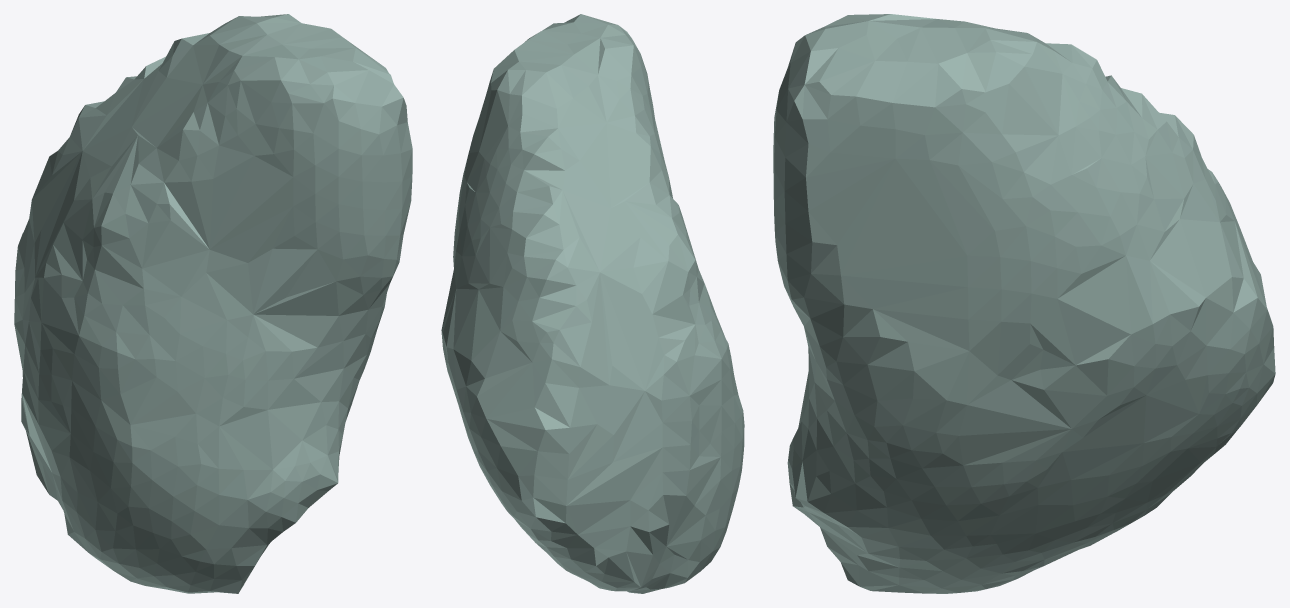
File: Model_224_RH__Substantia_nigra__lateral_part_(SNL).obj
The picture shows the model from 3 angles, left to right: view 1: azimuth 30°, elevation 25°; view 2: azimuth 150°, elevation 25°; view 3: azimuth 270°, elevation 25°; orthographic projection. The views are drawn at different scales.
Bounding box in the file's own units: 1.02 × 1.91 × 1.41.
